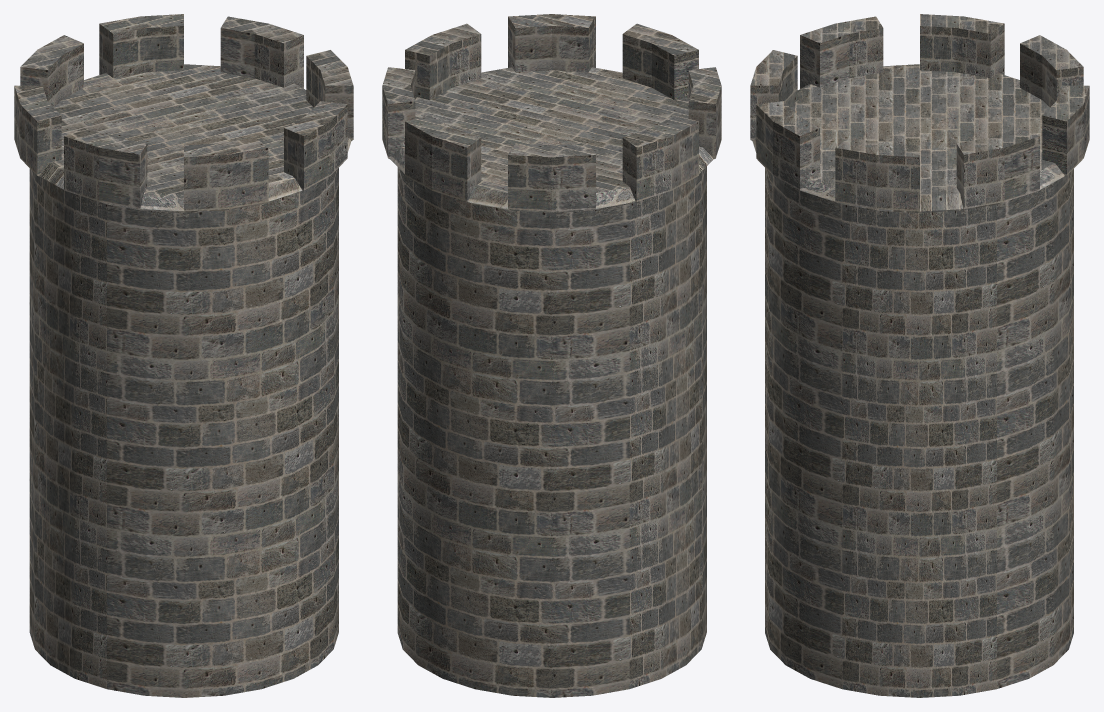
Rendered from Tower.FBX.
The picture shows the model from 3 angles, left to right: view 1: azimuth 30°, elevation 25°; view 2: azimuth 150°, elevation 25°; view 3: azimuth 270°, elevation 25°; orthographic projection.
Visible parts, largest first — view 1: Cylinder02; view 2: Cylinder02; view 3: Cylinder02.
Part boxes in pixels (x1,y1,x2,y2): Cylinder02: (14, 14, 353, 697); Cylinder02: (382, 14, 721, 697); Cylinder02: (750, 14, 1089, 697).
Bounding box in the file's own units: 986 × 1754 × 986.
